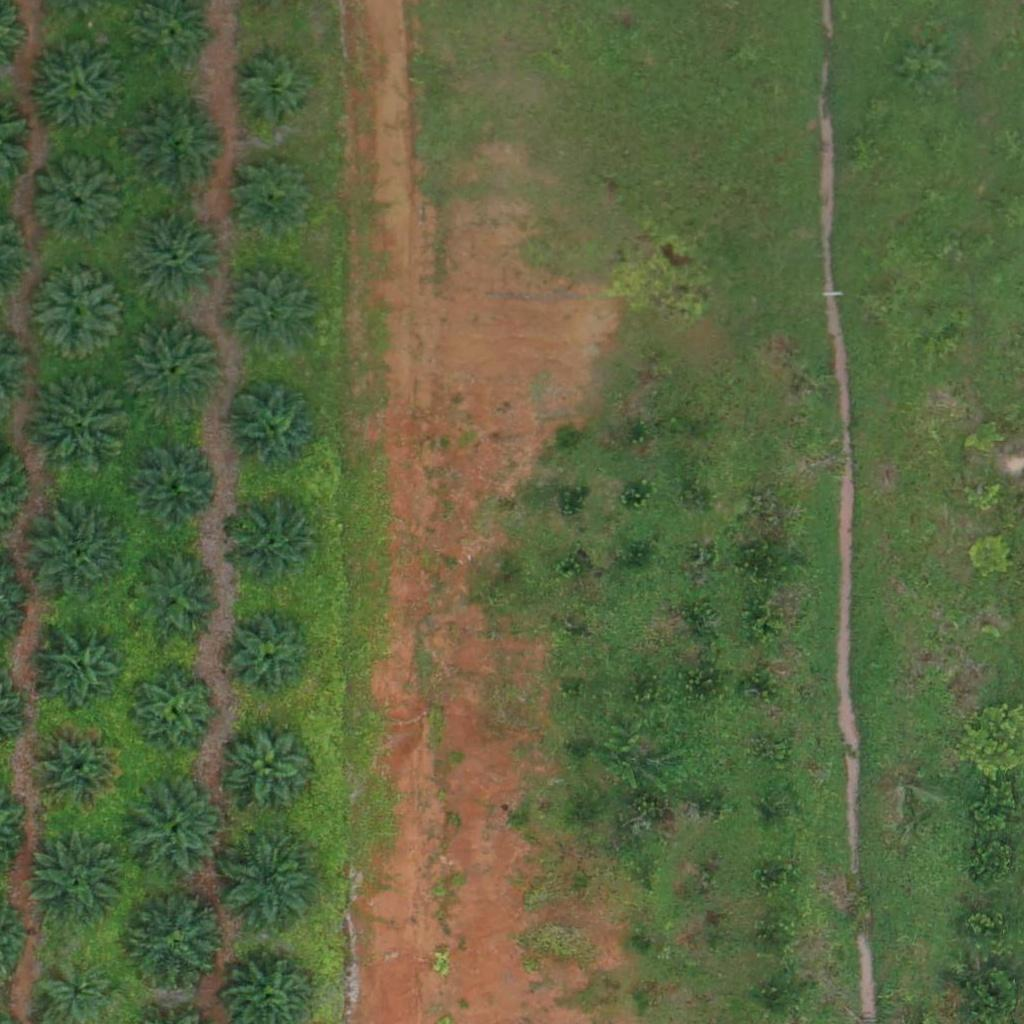Kelapa_Sawit: (29, 263, 129, 364), (28, 374, 128, 475), (29, 507, 129, 608), (131, 208, 231, 309), (124, 319, 224, 420), (223, 378, 323, 479), (127, 97, 227, 197), (27, 36, 127, 136), (218, 828, 318, 928), (123, 780, 223, 880), (125, 894, 225, 994), (28, 832, 128, 932), (35, 159, 123, 248), (229, 52, 317, 140), (129, 443, 217, 531), (231, 499, 319, 587), (227, 613, 315, 701), (228, 723, 316, 811), (133, 555, 220, 643), (229, 153, 316, 241), (229, 268, 316, 356), (38, 627, 125, 715), (130, 666, 217, 754), (34, 724, 121, 812)
